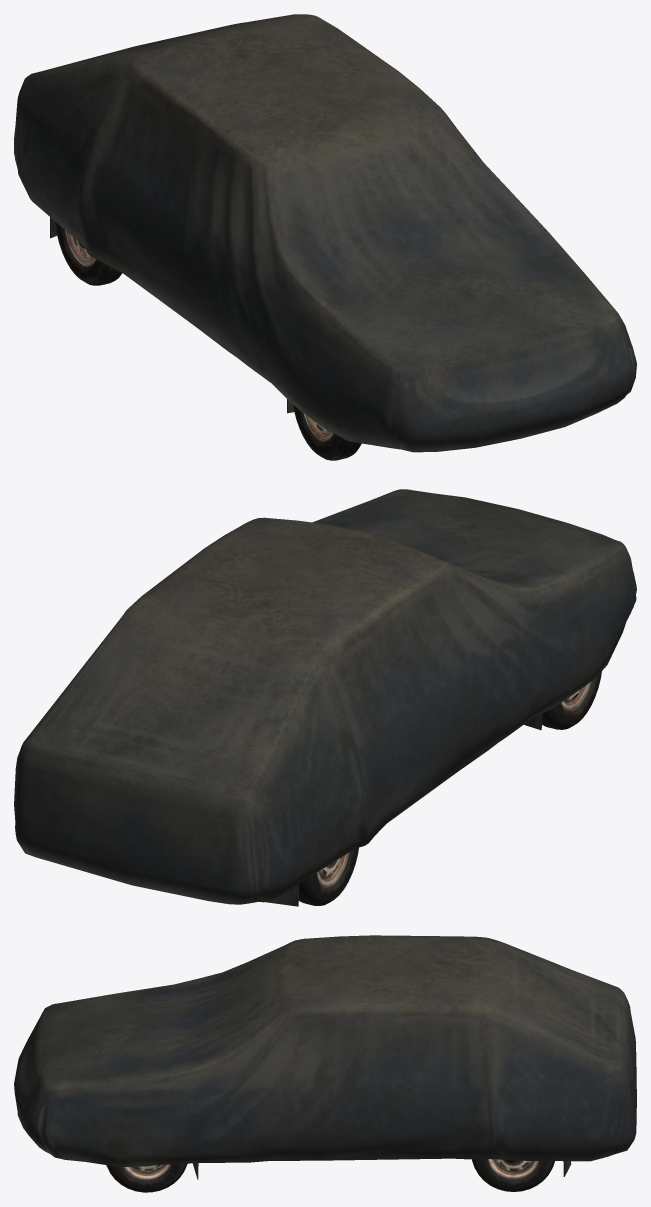
The picture shows the model from 3 angles, top to bottom: view 1: azimuth 30°, elevation 25°; view 2: azimuth 150°, elevation 25°; view 3: azimuth 270°, elevation 25°; orthographic projection. The views are drawn at different scales.
Parts seen in each view (by area): view 1: covered_car_wheel_01; view 2: covered_car_wheel_01; view 3: covered_car_wheel_01.
Part boxes in pixels (x1,y1,x2,y2): covered_car_wheel_01: [14, 14, 636, 460]; covered_car_wheel_01: [14, 489, 636, 906]; covered_car_wheel_01: [14, 935, 636, 1192].
Bounding box in the file's own units: 1.79 × 1.41 × 4.38.
1 material, 1 textured.
